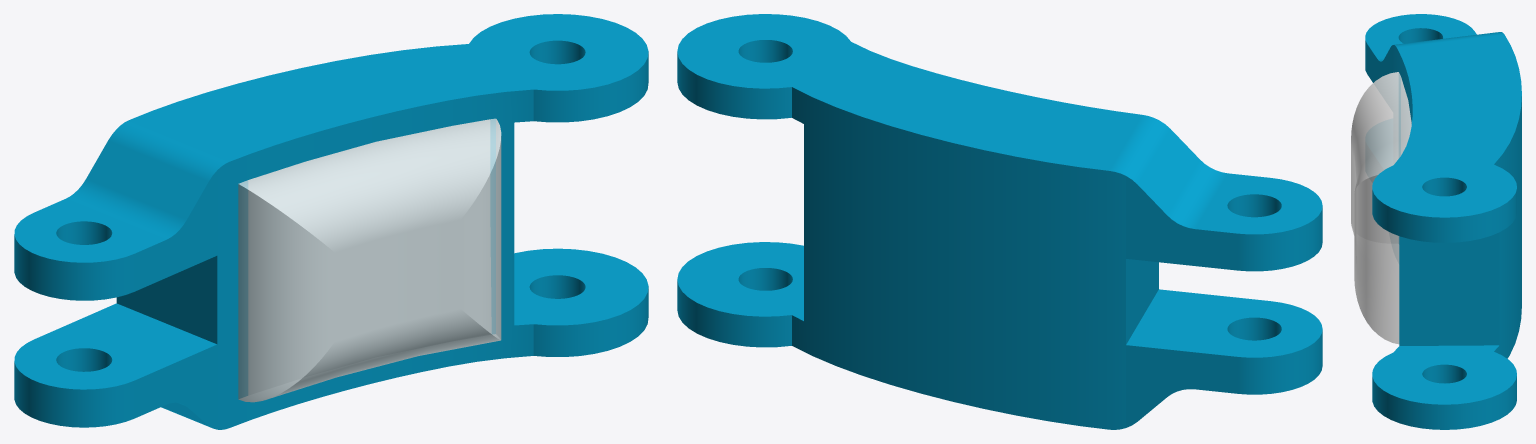
File: MiddlePhalang.dae
The picture shows the model from 3 angles, left to right: view 1: azimuth 30°, elevation 25°; view 2: azimuth 150°, elevation 25°; view 3: azimuth 270°, elevation 25°; orthographic projection. The views are drawn at different scales.
Visible parts, largest first — view 1: MiddlePhalang, SoftPad; view 2: MiddlePhalang; view 3: MiddlePhalang, SoftPad.
Boxes of the visible parts, x1,y1,x2,y2 form: MiddlePhalang: [14, 14, 648, 429]; SoftPad: [238, 118, 501, 402]; MiddlePhalang: [677, 14, 1322, 429]; MiddlePhalang: [1365, 14, 1521, 429]; SoftPad: [1351, 72, 1411, 344].
Bounding box in the file's own units: 0.0518 × 0.0153 × 0.021.
